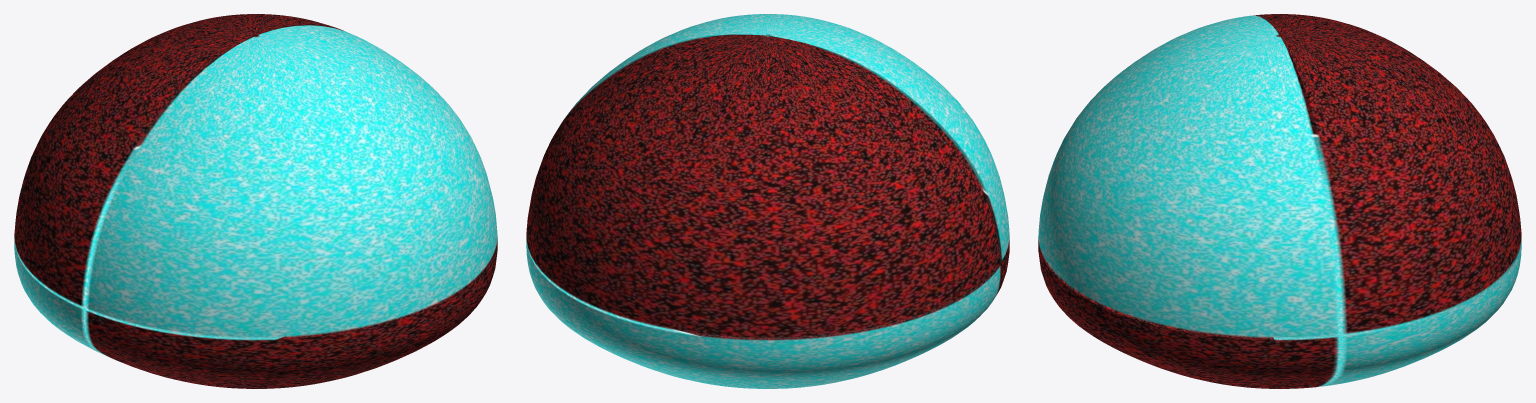
The picture shows the model from 3 angles, left to right: view 1: azimuth 30°, elevation 25°; view 2: azimuth 150°, elevation 25°; view 3: azimuth 270°, elevation 25°; orthographic projection.
Visible parts, largest first — view 1: SM_VFX_KuldraBackdrop_01_LOD0; view 2: SM_VFX_KuldraBackdrop_01_LOD0; view 3: SM_VFX_KuldraBackdrop_01_LOD0.
Part boxes in pixels (x1=…): SM_VFX_KuldraBackdrop_01_LOD0: x1=14, y1=14, x2=497, y2=388; SM_VFX_KuldraBackdrop_01_LOD0: x1=526, y1=14, x2=1009, y2=388; SM_VFX_KuldraBackdrop_01_LOD0: x1=1038, y1=14, x2=1521, y2=388.
Bounding box in the file's own units: 118 × 84.6 × 118.
Materials: 1 (1 with a texture image).
